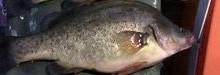Silver Perch: (0, 0, 196, 75)
